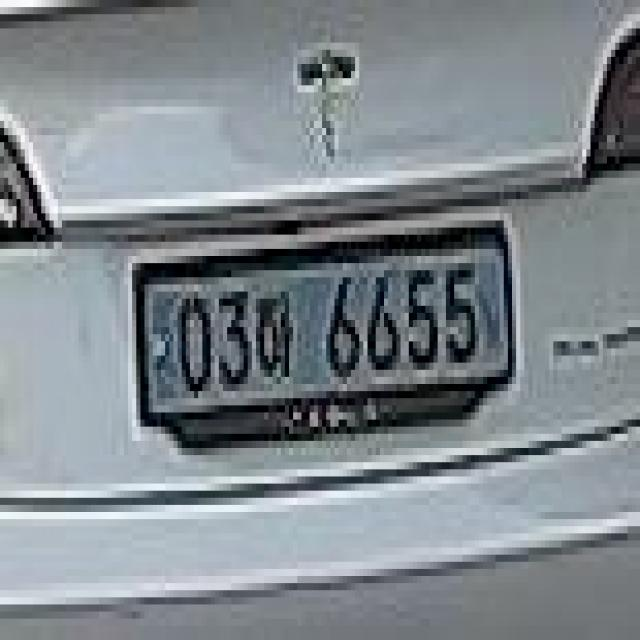EV_plate: (127, 224, 522, 443)
